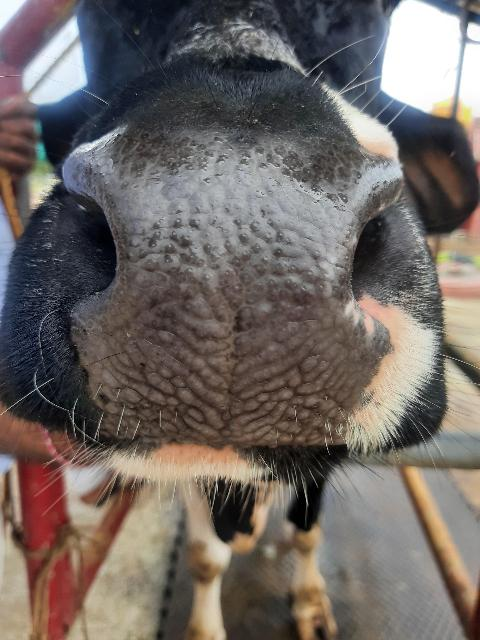Muzzle: (80, 146, 370, 440)
